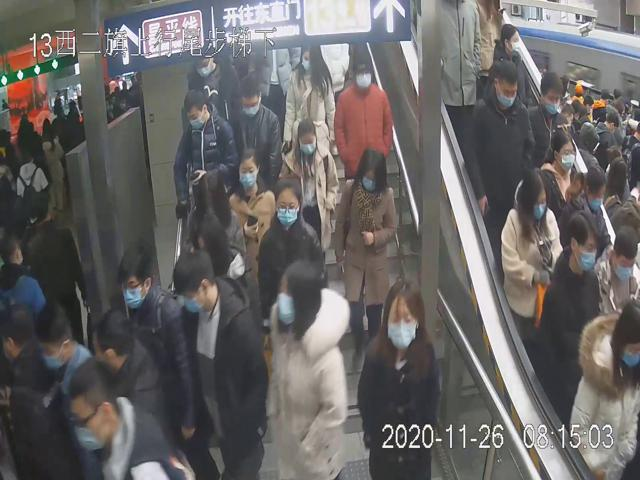person: (164, 249, 263, 480), (262, 260, 349, 480), (356, 281, 442, 480), (332, 146, 396, 381), (459, 59, 535, 248), (535, 211, 603, 418), (170, 82, 237, 255), (498, 170, 563, 329), (256, 176, 325, 320), (332, 51, 394, 192), (278, 117, 337, 265), (219, 149, 276, 298), (283, 43, 335, 177), (225, 76, 282, 195)
